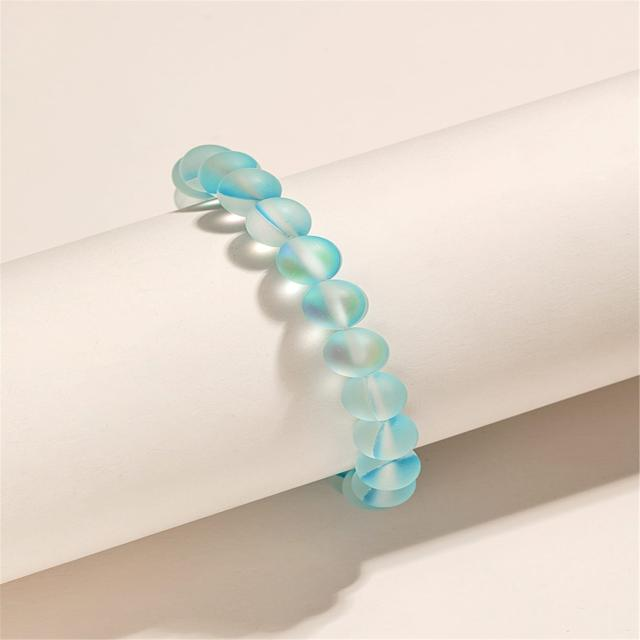bracelet: (143, 99, 538, 582)
